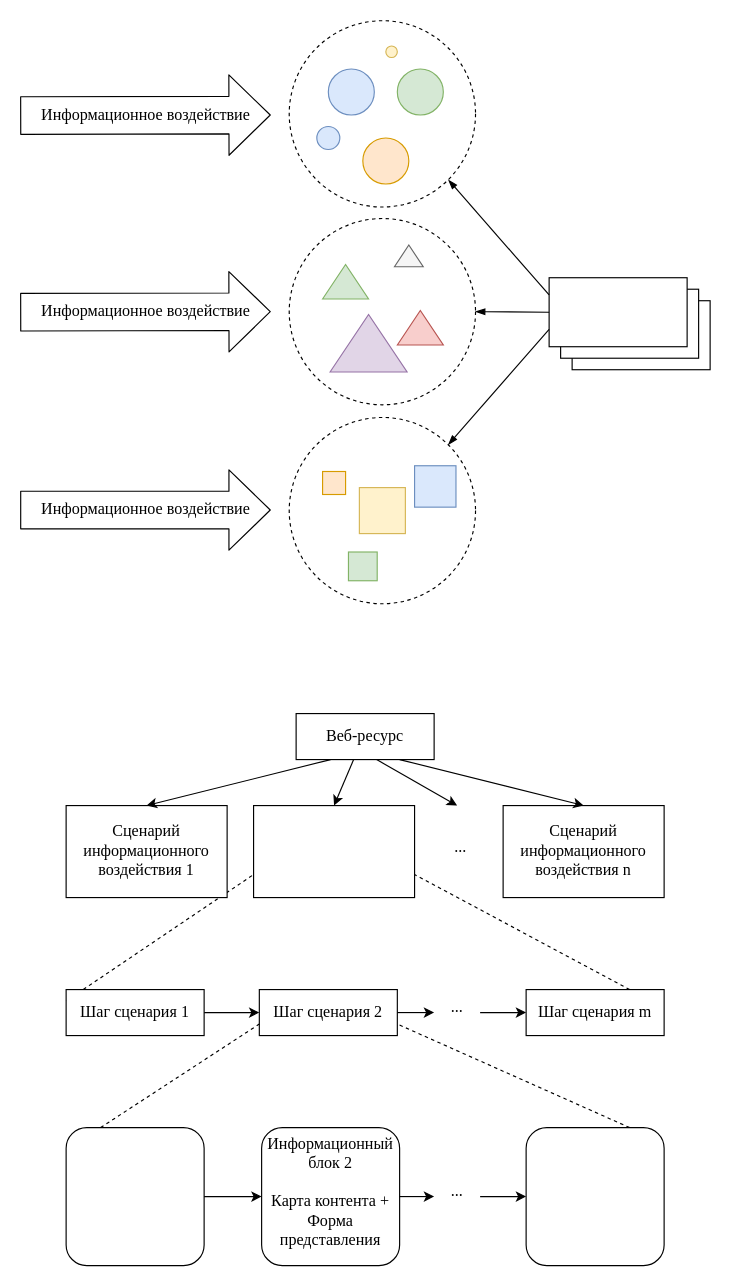
The diagram is 730 pixels wide and 1286 high, and some of its shapes have lost their labels. Each missing label, with the centre of its shape:
"Информационный блок 1 Карта контента + Форма представления" belongs at (x=134, y=1196).
"Информационный блок i Карта контента + Форма представления" belongs at (x=594, y=1196).
"Категории делового окружения" belongs at (x=617, y=312).
"Сценарий информационного воздействия 2" belongs at (x=333, y=851).
